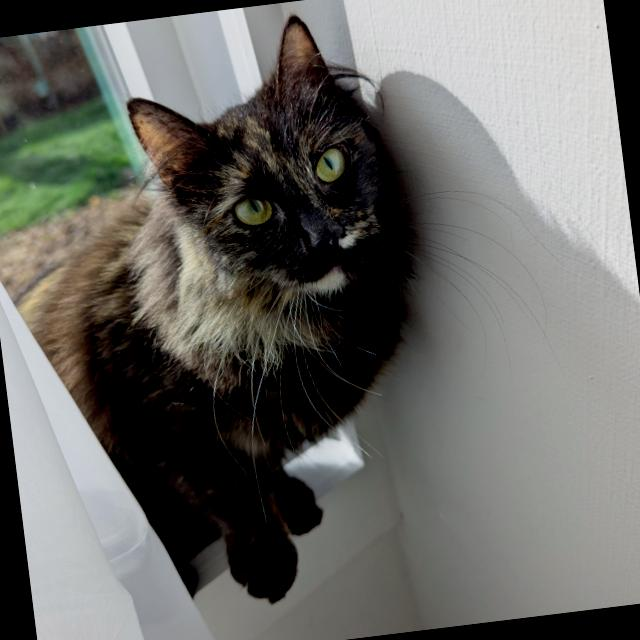domestic_long_hair_cat: (91, 0, 427, 372)
